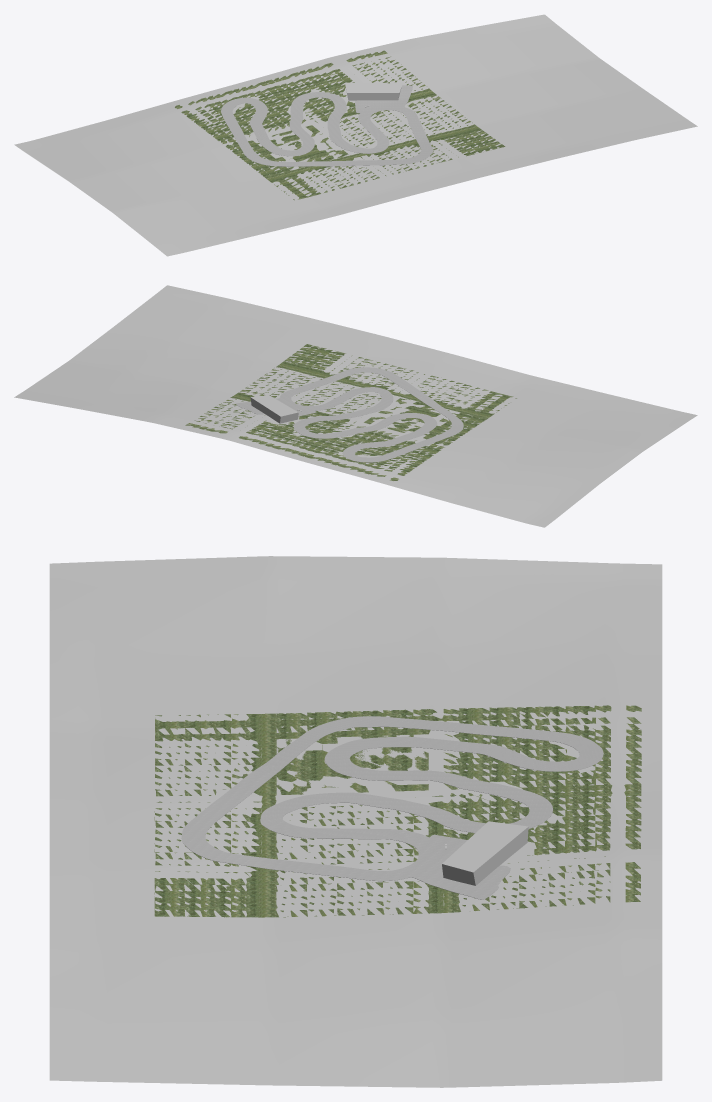
Rendered from untitledx30.fbx.
3 renders of one model, top to bottom at view 1: azimuth 30°, elevation 25°; view 2: azimuth 150°, elevation 25°; view 3: azimuth 270°, elevation 25°, orthographic. The views are drawn at different scales.
Visible parts, largest first — view 1: EXPORT_GOOGLE_SAT_WM, 1GRASS, 1ROAD, 1WALL_building; view 2: EXPORT_GOOGLE_SAT_WM, 1GRASS, 1ROAD, 1WALL_building; view 3: EXPORT_GOOGLE_SAT_WM, 1GRASS, 1ROAD, 1WALL_building.
Boxes of the visible parts, box(x1,y1,x2,y2) form: EXPORT_GOOGLE_SAT_WM: box(14, 14, 697, 256); 1GRASS: box(175, 50, 505, 200); 1ROAD: box(221, 85, 433, 166); 1WALL_building: box(345, 82, 402, 100); EXPORT_GOOGLE_SAT_WM: box(14, 285, 697, 527); 1GRASS: box(185, 344, 516, 480); 1ROAD: box(236, 367, 463, 462); 1WALL_building: box(250, 395, 298, 423); EXPORT_GOOGLE_SAT_WM: box(49, 556, 662, 1087); 1GRASS: box(154, 705, 641, 917); 1ROAD: box(181, 716, 603, 899); 1WALL_building: box(442, 821, 528, 885).
Bounding box in the file's own units: 1375867 × 41568 × 687933.
